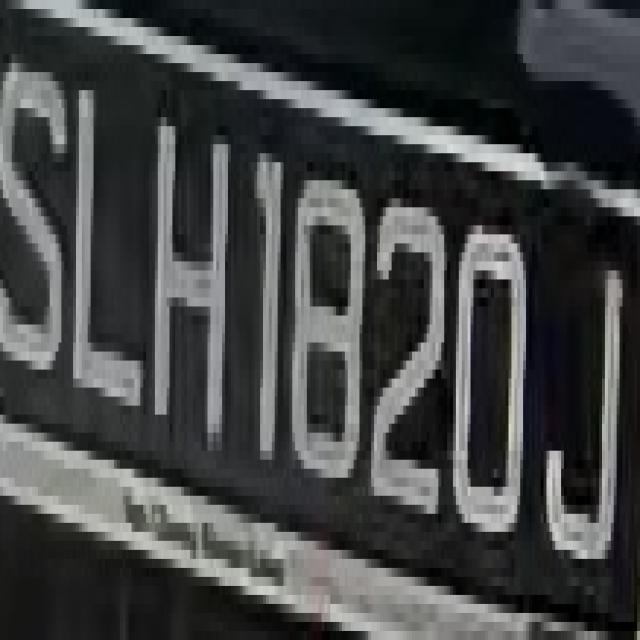0: (453, 162, 535, 559)
1: (252, 117, 292, 496)
2: (371, 171, 447, 559)
8: (281, 135, 365, 514)
H: (152, 90, 234, 460)
J: (547, 198, 631, 595)
L: (67, 36, 140, 433)
S: (0, 36, 70, 397)
